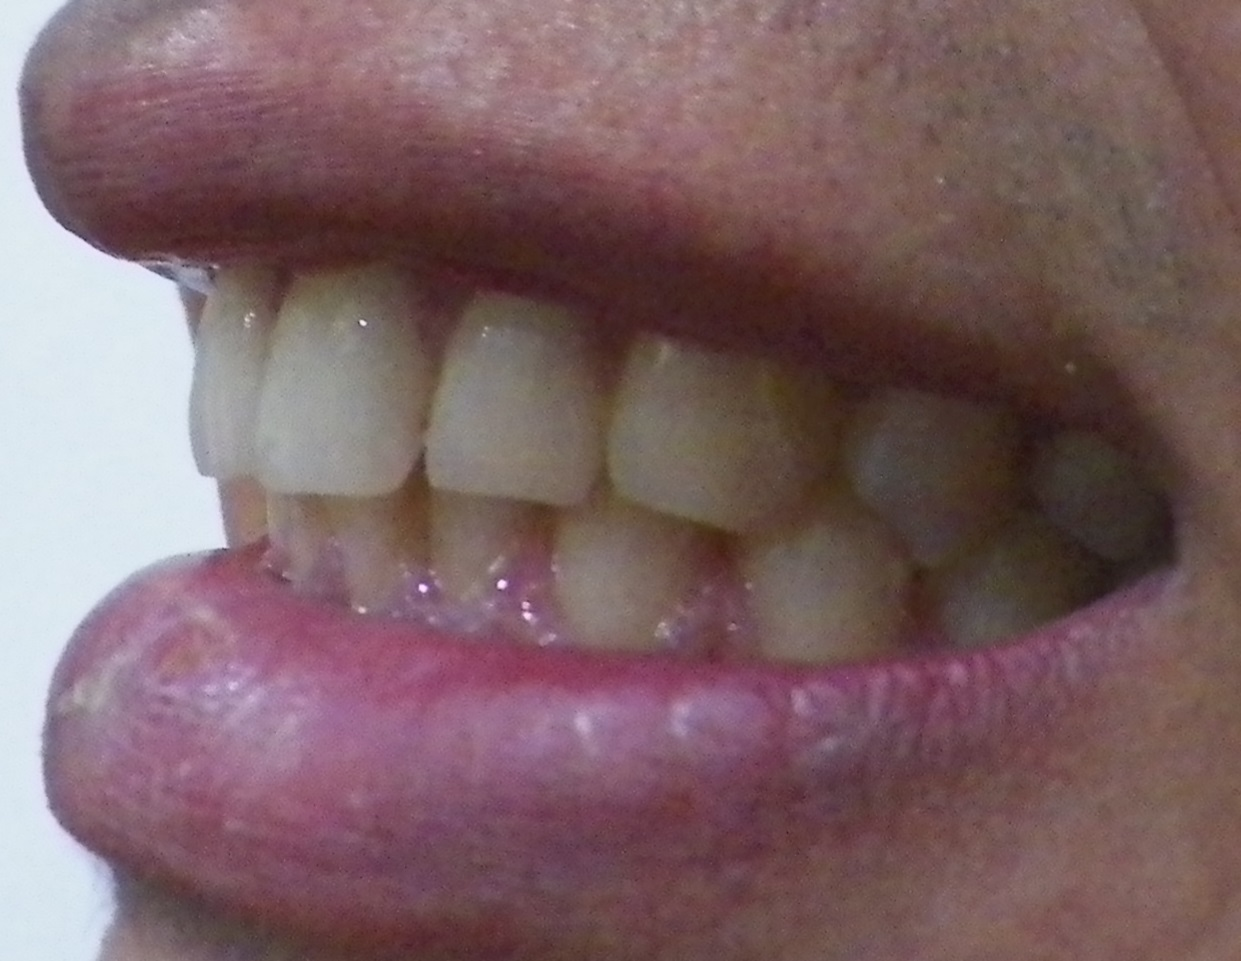boca: (166, 274, 1104, 652)
